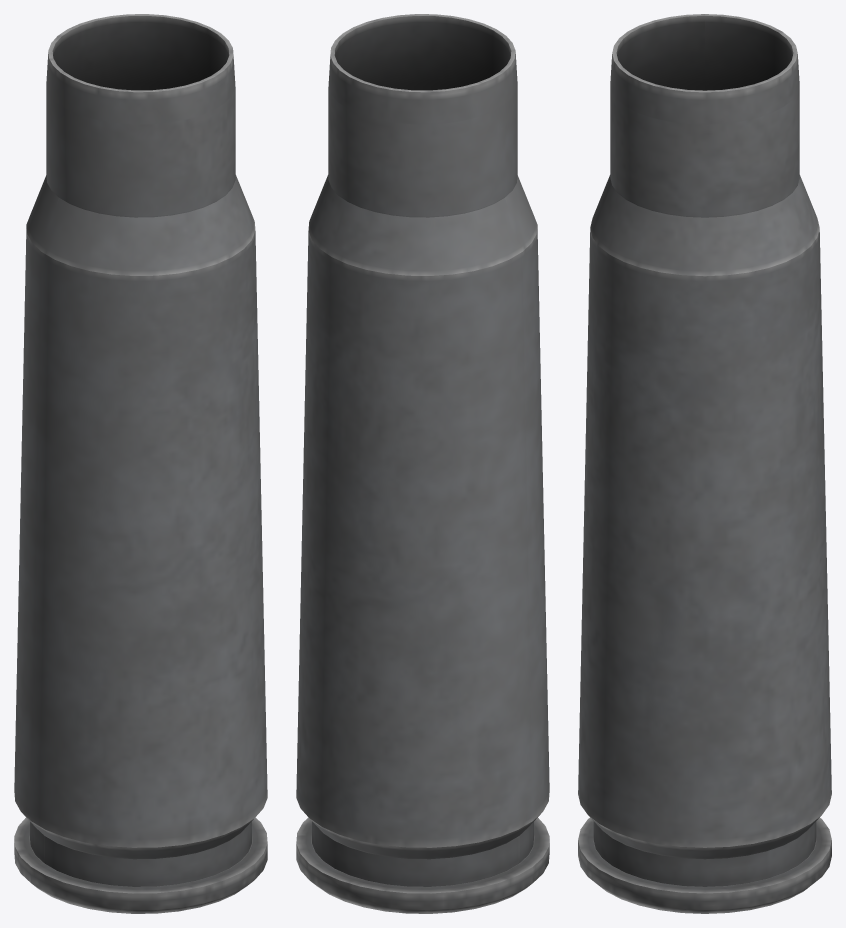
File: round_762x39s.glb
3 renders of one model, left to right at view 1: azimuth 30°, elevation 25°; view 2: azimuth 150°, elevation 25°; view 3: azimuth 270°, elevation 25°, orthographic.
Visible parts, largest first — view 1: Round; view 2: Round; view 3: Round.
Part boxes in pixels (x1,y1,x2,y2): Round: (14,14,267,913); Round: (296,14,549,913); Round: (578,14,831,913).
Size of the model in its own units: 0.0114 by 0.04 by 0.0114.
Materials: 1 (1 with a texture image).
